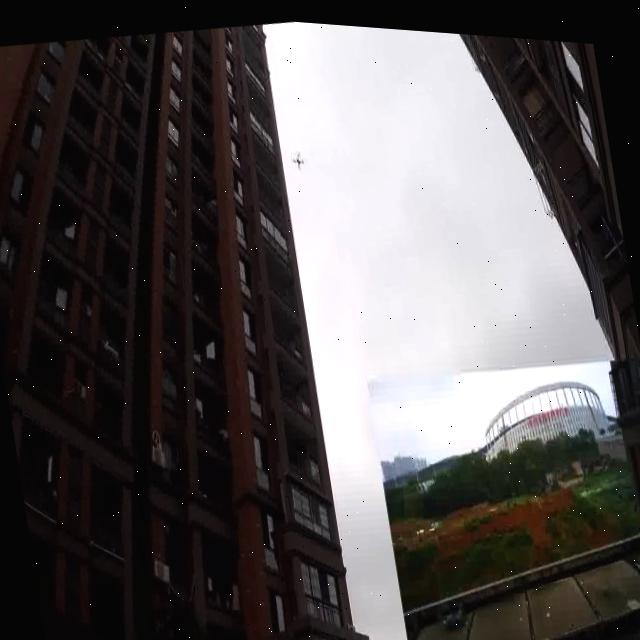drone: (288, 141, 307, 171)
